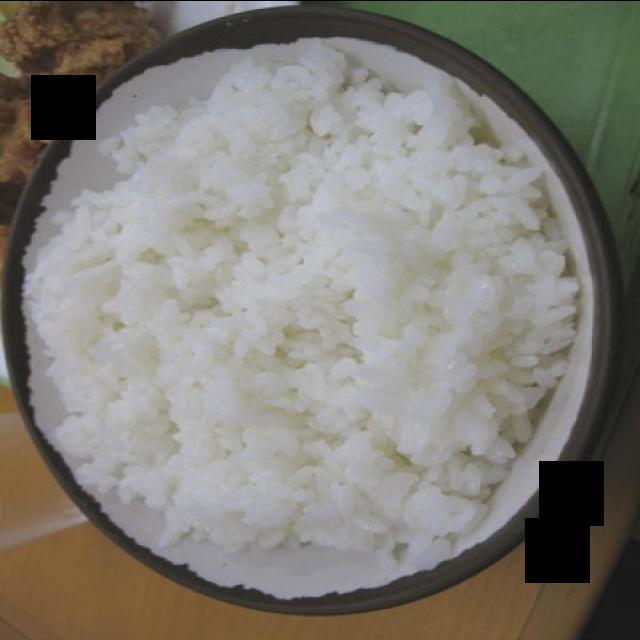rice: (22, 45, 586, 555)
